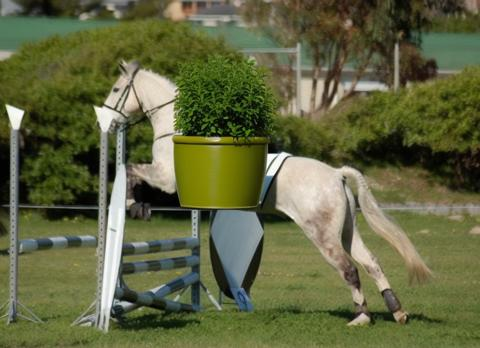horse: (89, 56, 427, 328)
pottedplant: (174, 52, 277, 209)
